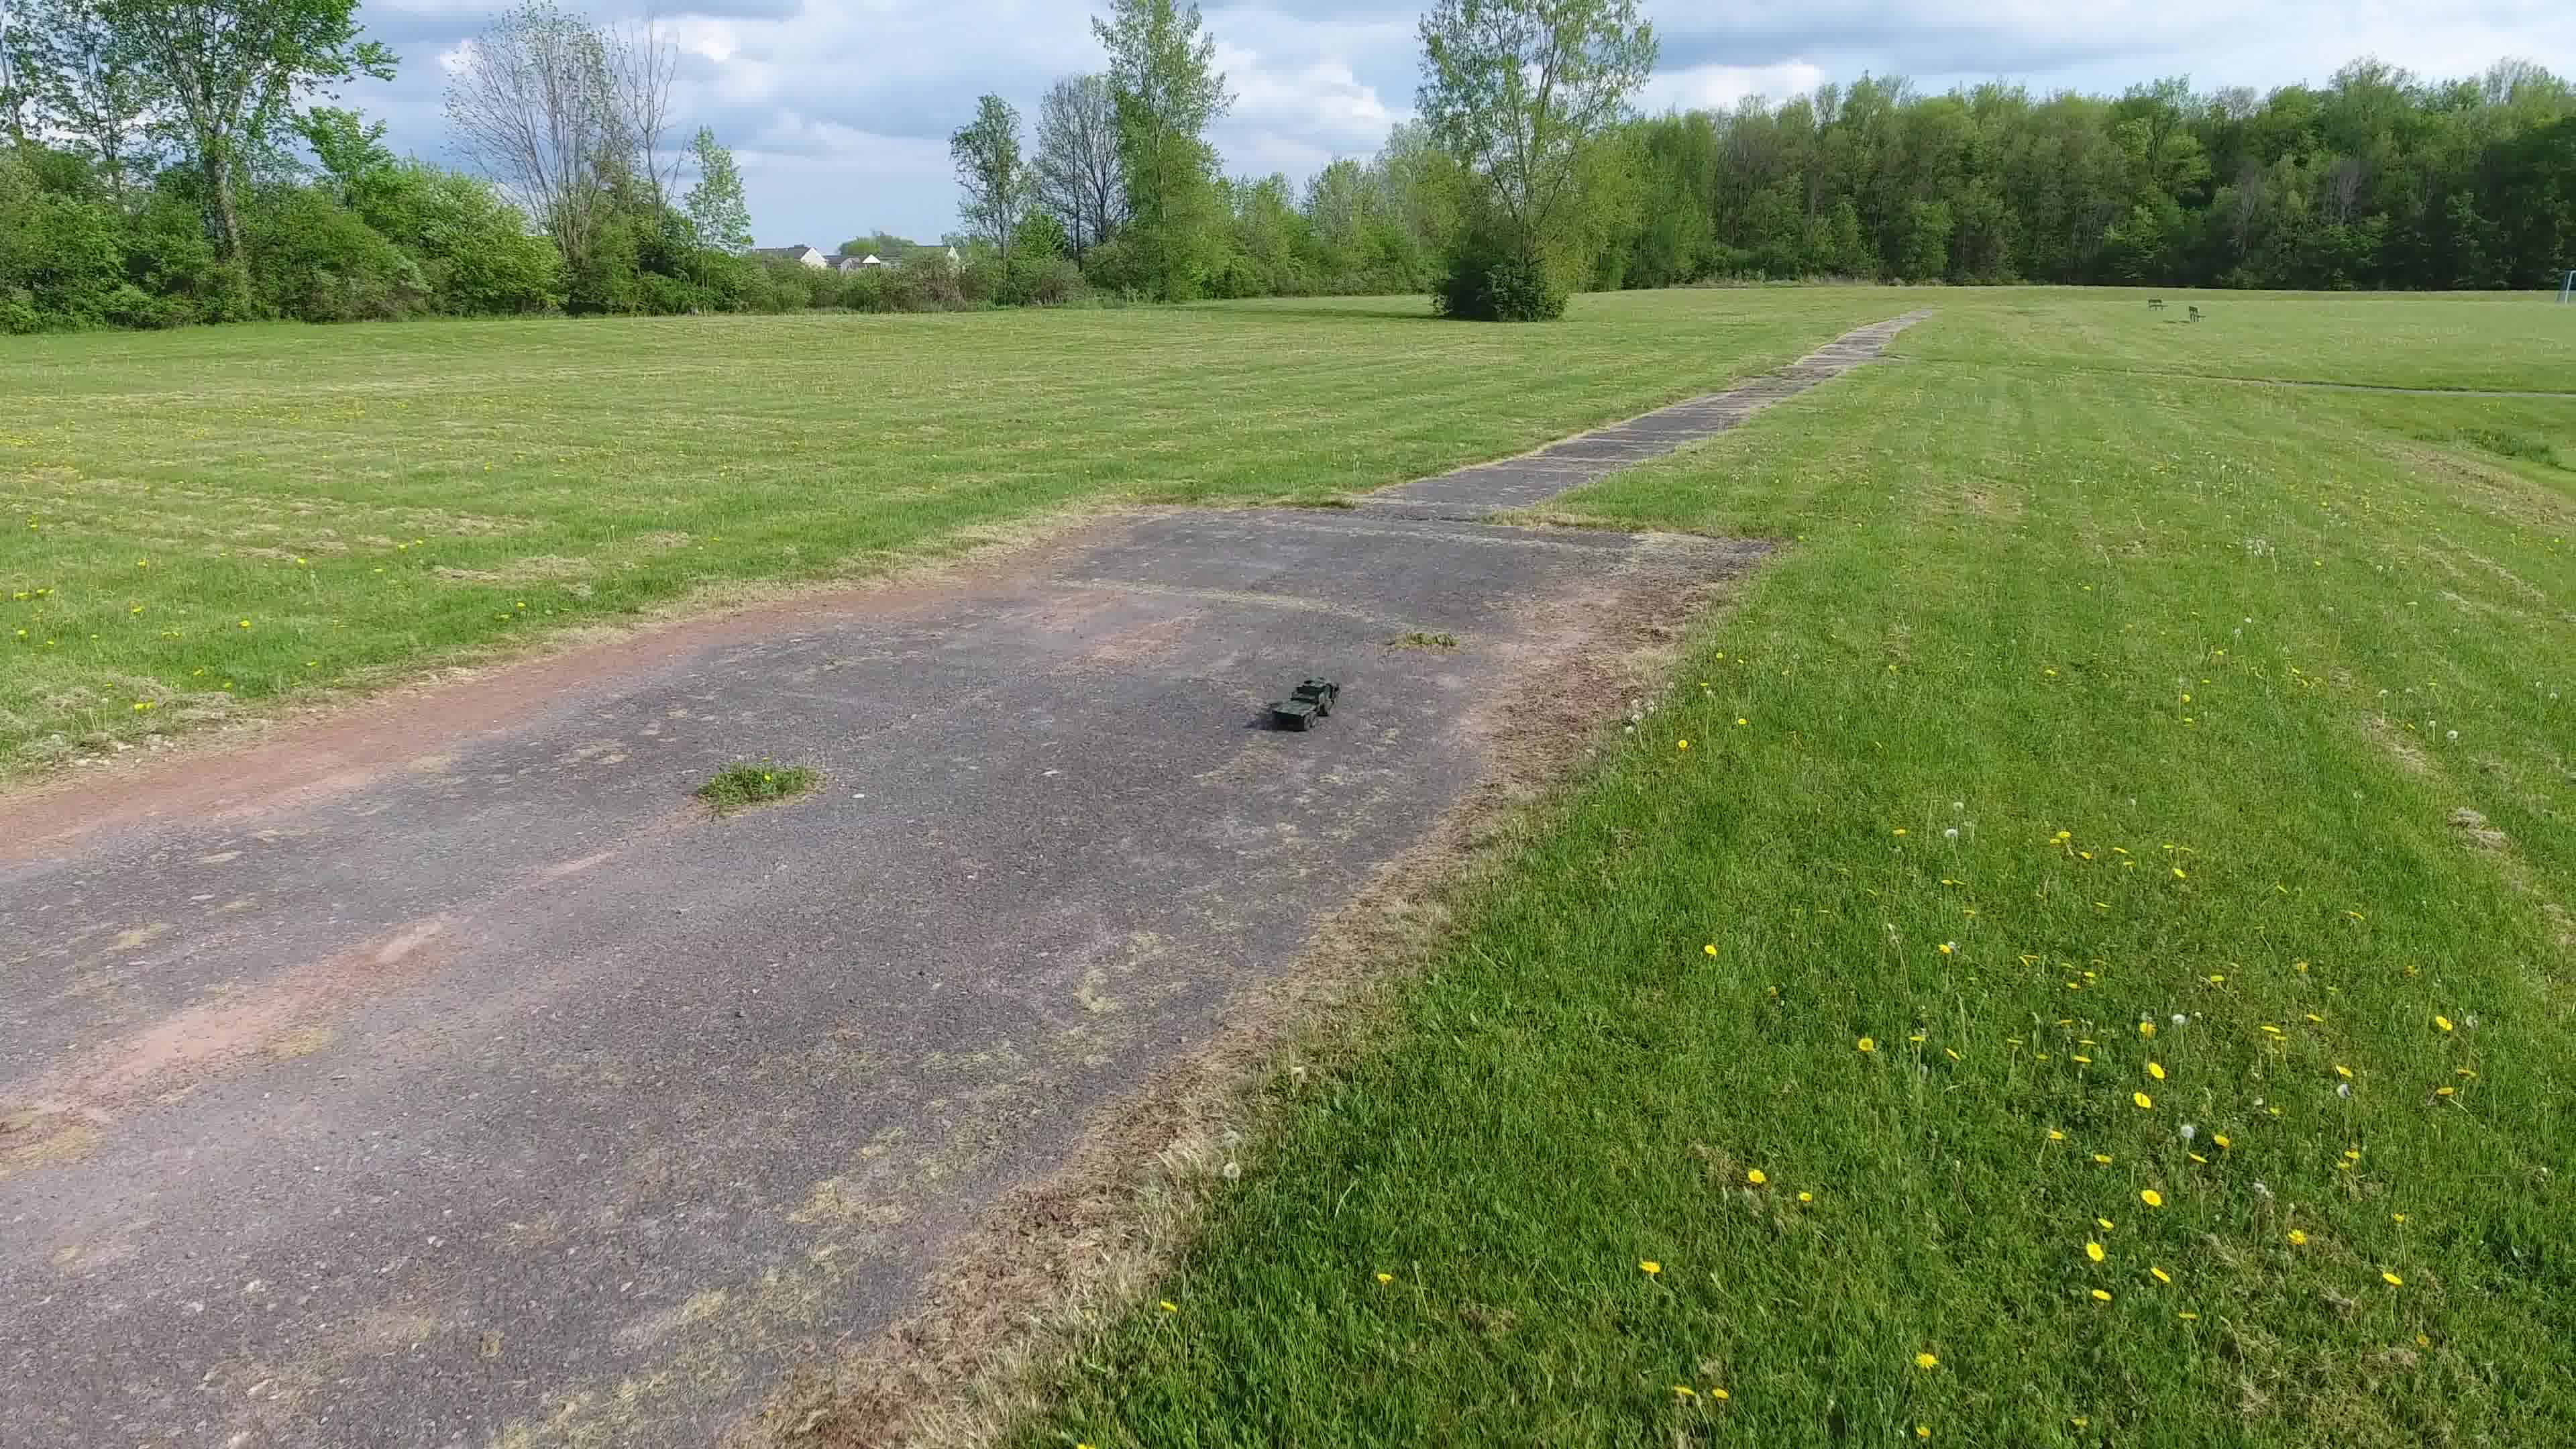transporter9_camo: (1260, 674, 1343, 732)
